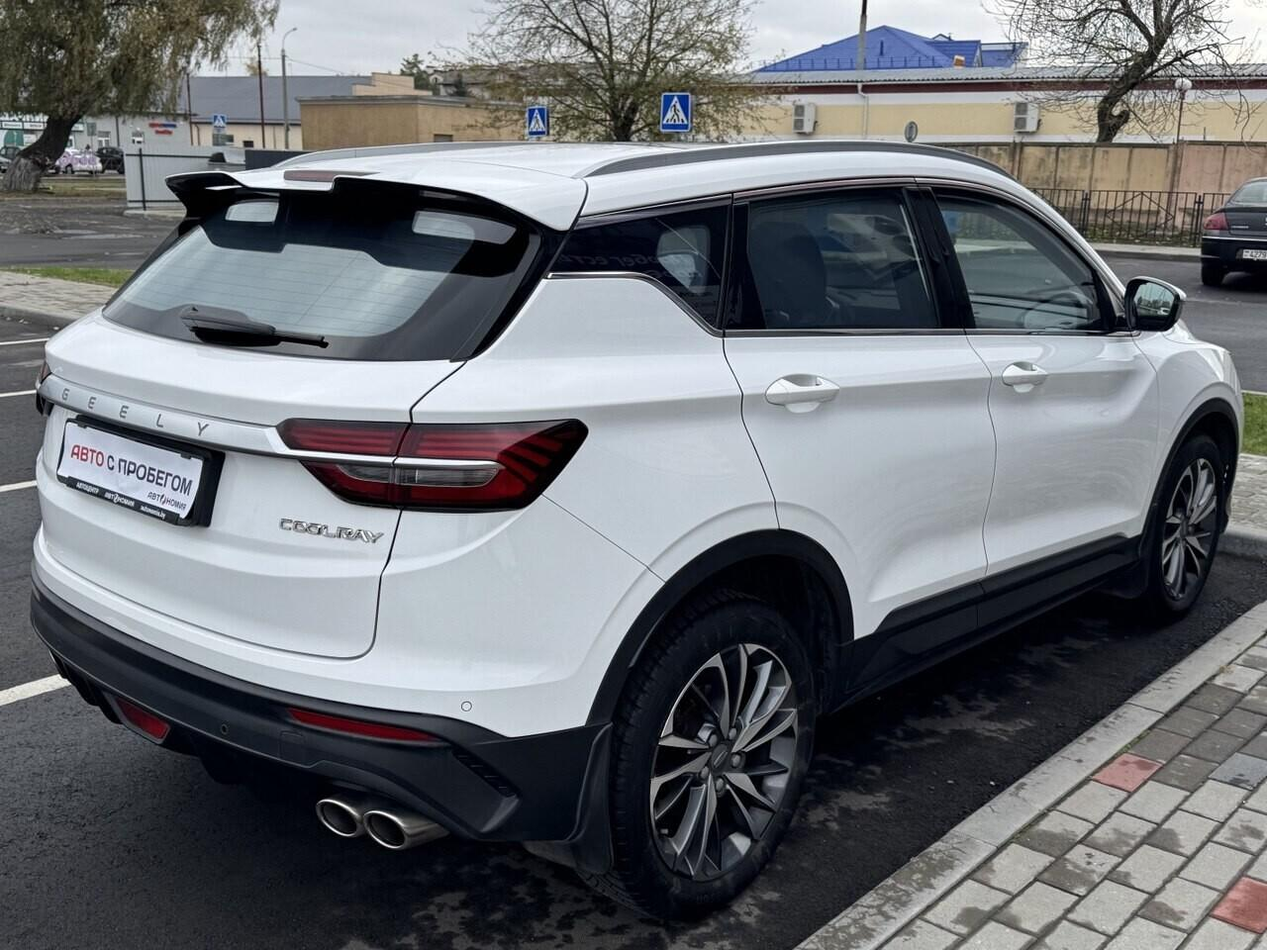Coolray_2019-2023: (17, 126, 1239, 919)
